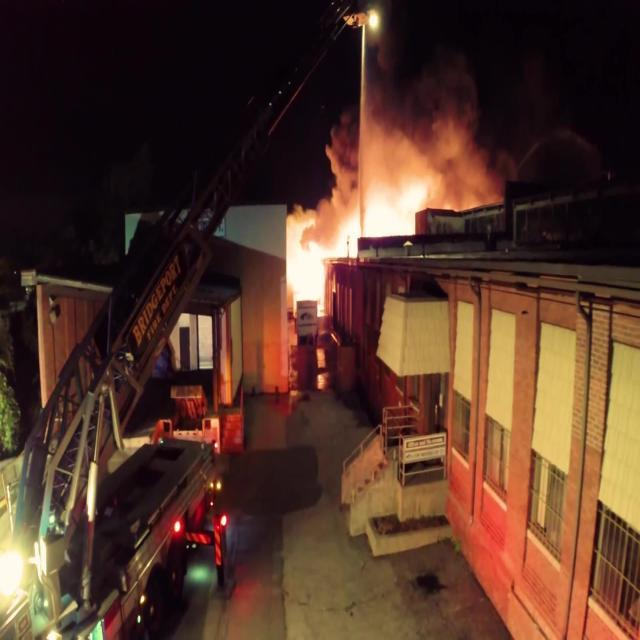Fire: (279, 168, 423, 328)
Smoke: (307, 48, 505, 238)
